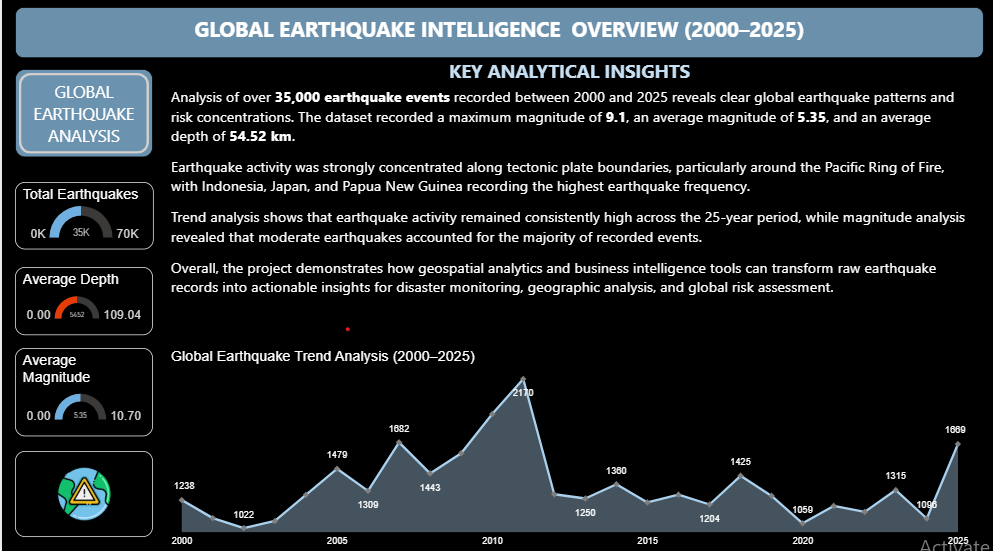

Layout of this report page (visuals, bound fields, positions):
{"tool":"powerbi","page":{"name":"Executive Overview","canvas":[1280,720],"ordinal":1},"visuals":[{"type":"shape","box":[17,80.8,178.6,629.3],"z":0},{"type":"textbox","title":"KEY ANALYTICAL INSIGHTS","box":[212.6,80.8,1038.9,321.7],"z":1000},{"type":"textbox","box":[16.8,15.5,1250.3,65.8],"z":2000},{"type":"lineChart","title":"Global Earthquake Trend Analysis (2000–2025) ","fields":{"Category":["Earthquakes.date.Variation.Date Hierarchy.Year"],"Y":["CountNonNull(Earthquakes.Country )"]},"box":[212.5,455.4,1039.5,264.6],"z":3000},{"type":"actionButton","title":"G","box":[17.3,95.4,177.8,114.2],"z":4000},{"type":"gauge","fields":{"Y":["Earthquakes.Total Earthquakes"]},"box":[17.3,241.4,179.3,86.7],"z":5000},{"type":"gauge","fields":{"Y":["Earthquakes.Average Depth"]},"box":[17.3,351.3,177.8,88.2],"z":6000},{"type":"gauge","fields":{"Y":["Earthquakes.Average Magnitude"]},"box":[17.3,455.4,177.8,114.2],"z":7000},{"type":"image","box":[16.8,588.4,178.1,111],"z":8000}]}

Visuals, with their boxes on the page's 1280x720 design canvas (x1, y1, x2, y2). These are canvas units, not pixel positions in the 993x551 screenshot, which may show the page scaled, cropped or inside an application window:
shape: (x1=17, y1=81, x2=196, y2=710)
"KEY ANALYTICAL INSIGHTS" textbox: (x1=213, y1=81, x2=1252, y2=402)
textbox: (x1=17, y1=16, x2=1267, y2=81)
"Global Earthquake Trend Analysis (2000–2025) " lineChart: (x1=212, y1=455, x2=1252, y2=720)
"G" actionButton: (x1=17, y1=95, x2=195, y2=210)
gauge - Earthquakes.Total Earthquakes: (x1=17, y1=241, x2=197, y2=328)
gauge - Earthquakes.Average Depth: (x1=17, y1=351, x2=195, y2=440)
gauge - Earthquakes.Average Magnitude: (x1=17, y1=455, x2=195, y2=570)
image: (x1=17, y1=588, x2=195, y2=699)
